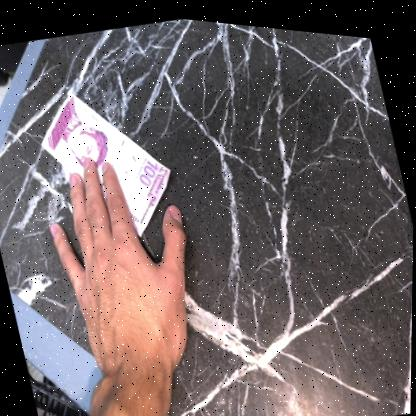one_hundred-front-vef: (29, 68, 189, 256)
